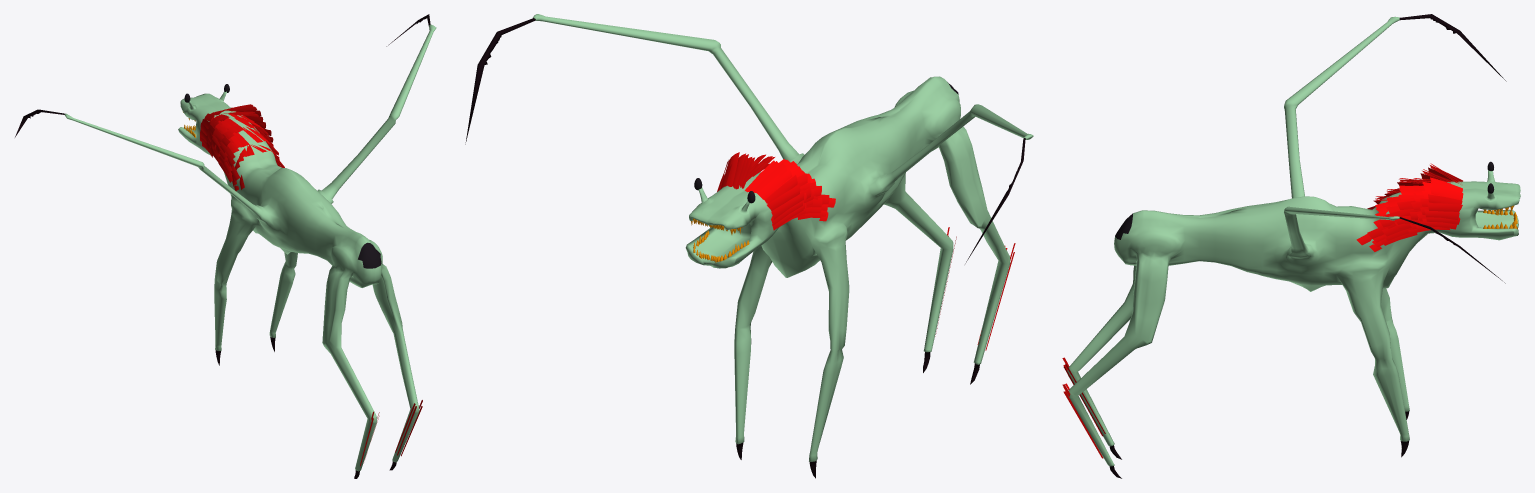
The model's file is MutandHound.FBX.
The picture shows the model from 3 angles, left to right: view 1: azimuth 30°, elevation 25°; view 2: azimuth 150°, elevation 25°; view 3: azimuth 270°, elevation 25°; orthographic projection. The views are drawn at different scales.
Visible parts, largest first — view 1: Body; view 2: Body; view 3: Body.
Part boxes in pixels (<box>): Body: <box>15,14,436,478</box>; Body: <box>465,14,1033,478</box>; Body: <box>1062,14,1520,478</box>.
Bounding box in the file's own units: 38.4 × 29.32 × 34.51.
